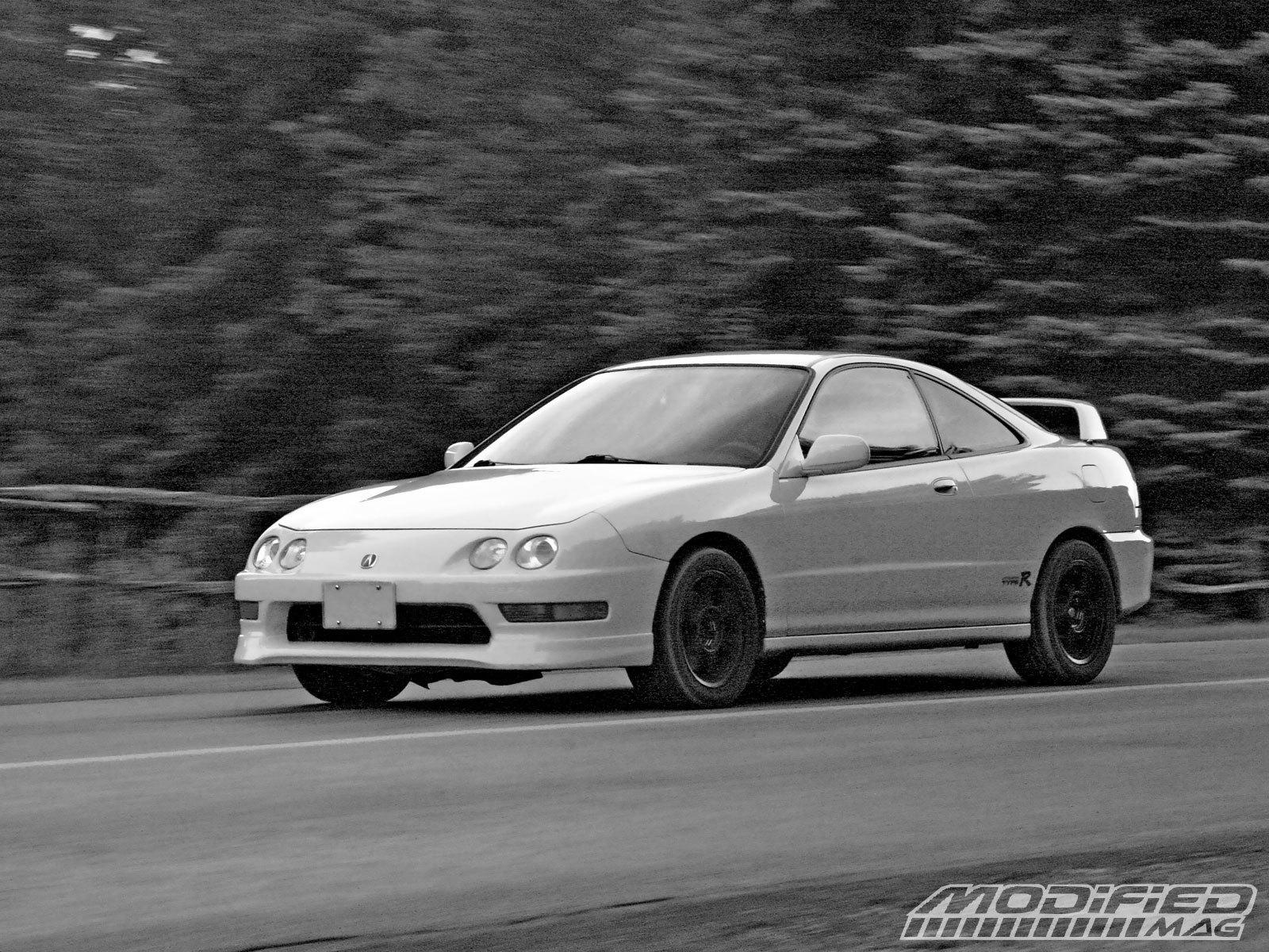car: (229, 344, 1160, 717)
